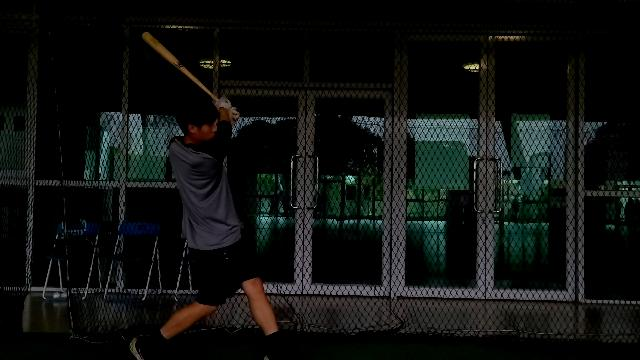bat: (138, 30, 218, 102)
